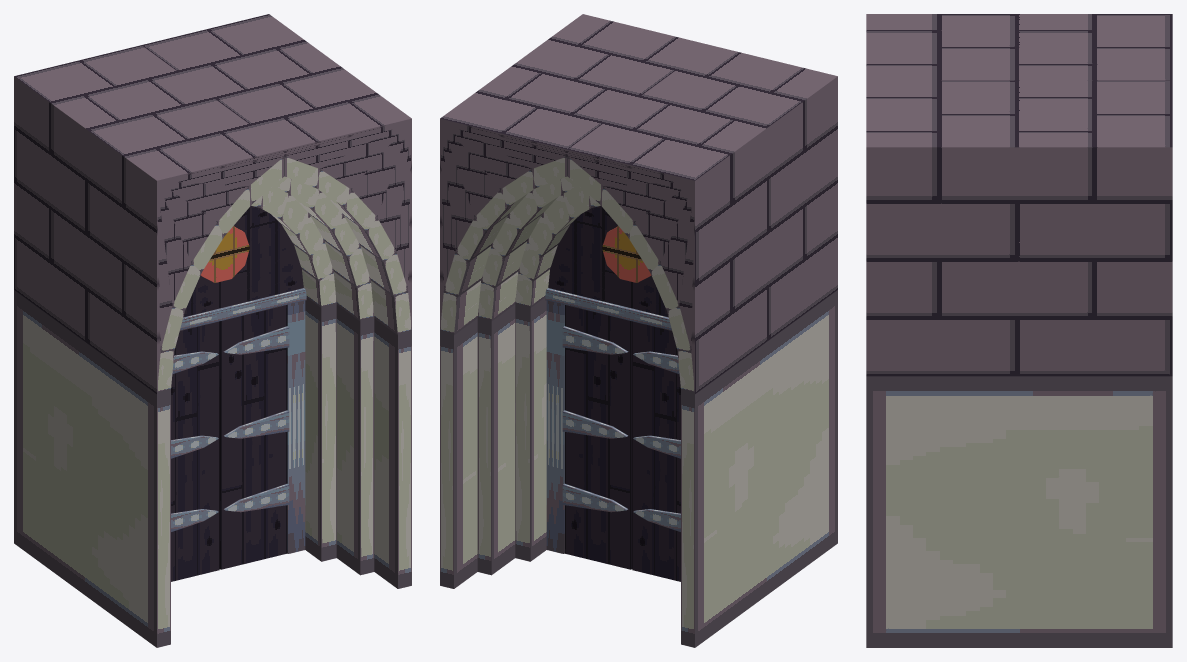
The model's file is door_boss.glb.
3 views of the same model, side by side, from view 1: azimuth 30°, elevation 25°; view 2: azimuth 150°, elevation 25°; view 3: azimuth 270°, elevation 25° (orthographic). The views are drawn at different scales.
Visible parts, largest first — view 1: portal, leaf_a, leaf_b; view 2: portal, leaf_a, leaf_b; view 3: portal.
Boxes of the visible parts, left/top/right/bottom form: portal: left=14, top=14, right=411, bottom=647; leaf_a: left=219, top=305, right=289, bottom=569; leaf_b: left=171, top=321, right=219, bottom=581; portal: left=440, top=14, right=837, bottom=647; leaf_a: left=562, top=305, right=632, bottom=569; leaf_b: left=632, top=321, right=680, bottom=581; portal: left=866, top=14, right=1172, bottom=647.
Bounding box in the file's own units: 2 × 3.5 × 1.94.
Materials: 1 (1 with a texture image).
